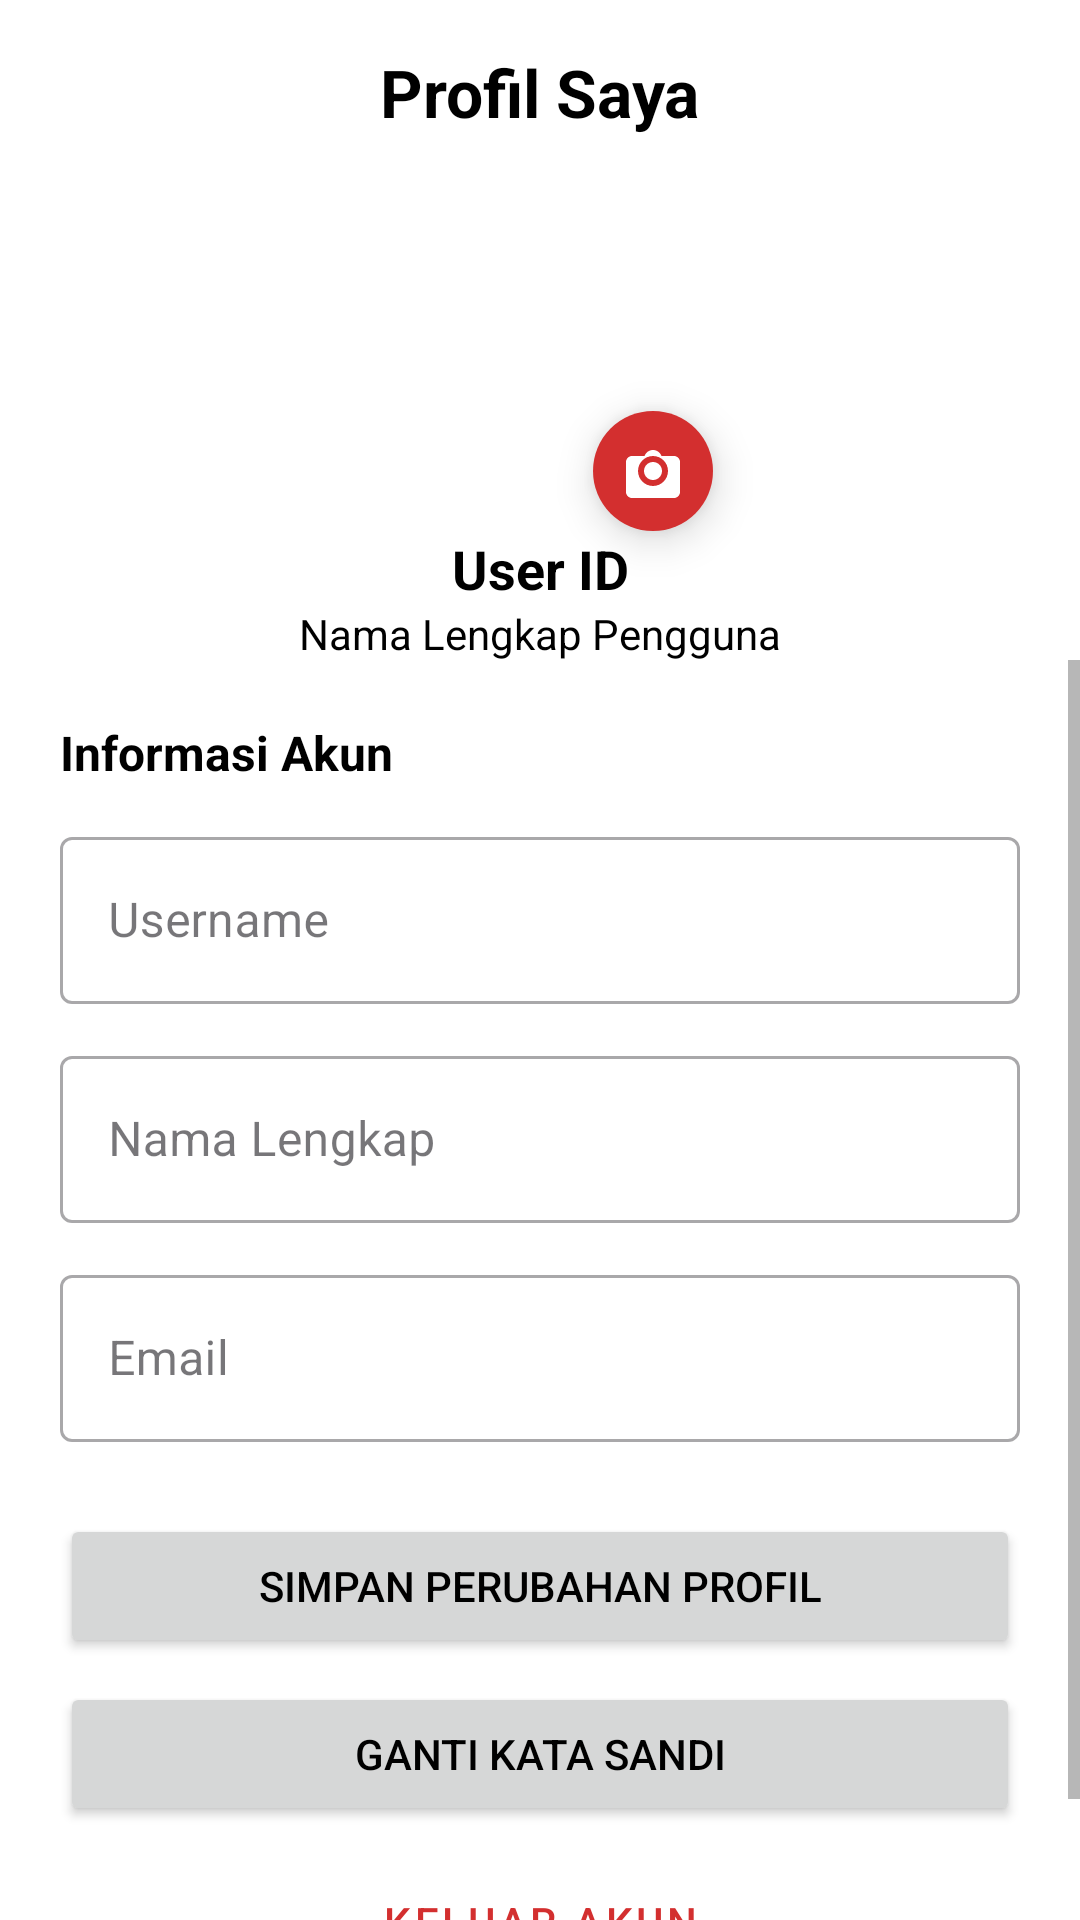

Locate icon controls on the screen. Image size 1080px x 1920px, boxes as (x1, y1, x2, y2).
Edit Profile Picture: (593, 411, 713, 531)
